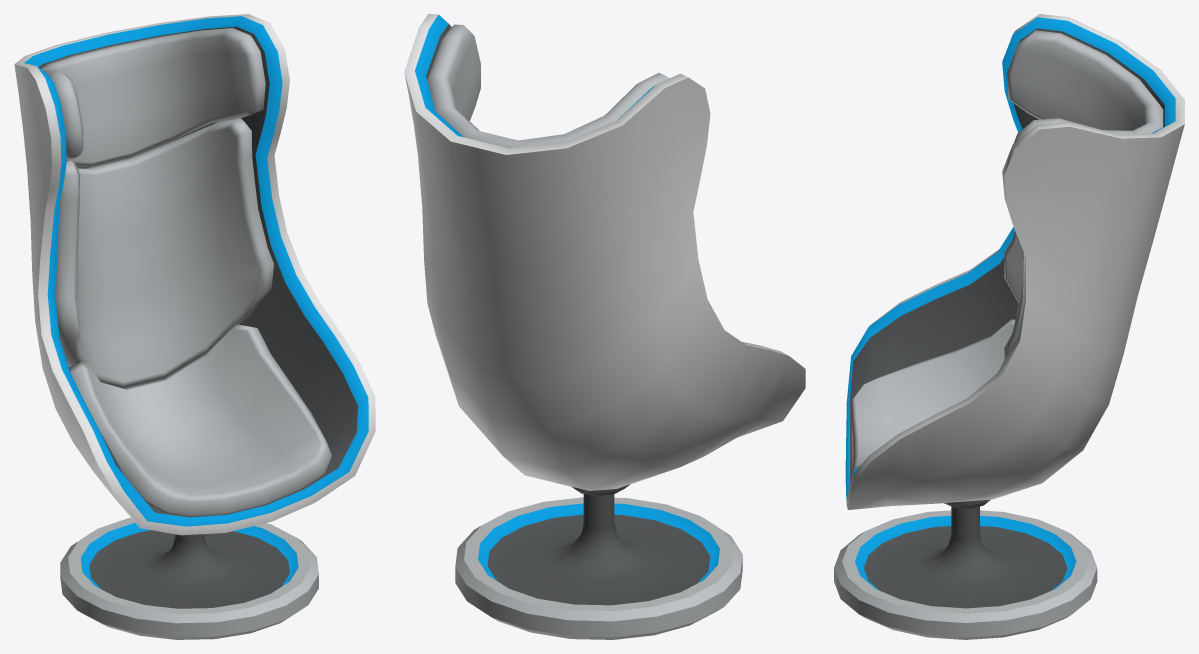
File: Armchair_005.glb
3 views of the same model, side by side, from view 1: azimuth 30°, elevation 25°; view 2: azimuth 150°, elevation 25°; view 3: azimuth 270°, elevation 25° (orthographic). The views are drawn at different scales.
Visible parts, largest first — view 1: Armchair_005; view 2: Armchair_005; view 3: Armchair_005.
Boxes of the visible parts, x1,y1,x2,y2 form: Armchair_005: (14,14,375,639); Armchair_005: (404,14,805,639); Armchair_005: (834,14,1184,639).
Bounding box in the file's own units: 0.8699 × 1.53 × 0.941.
Materials: 2 (2 with a texture image).
